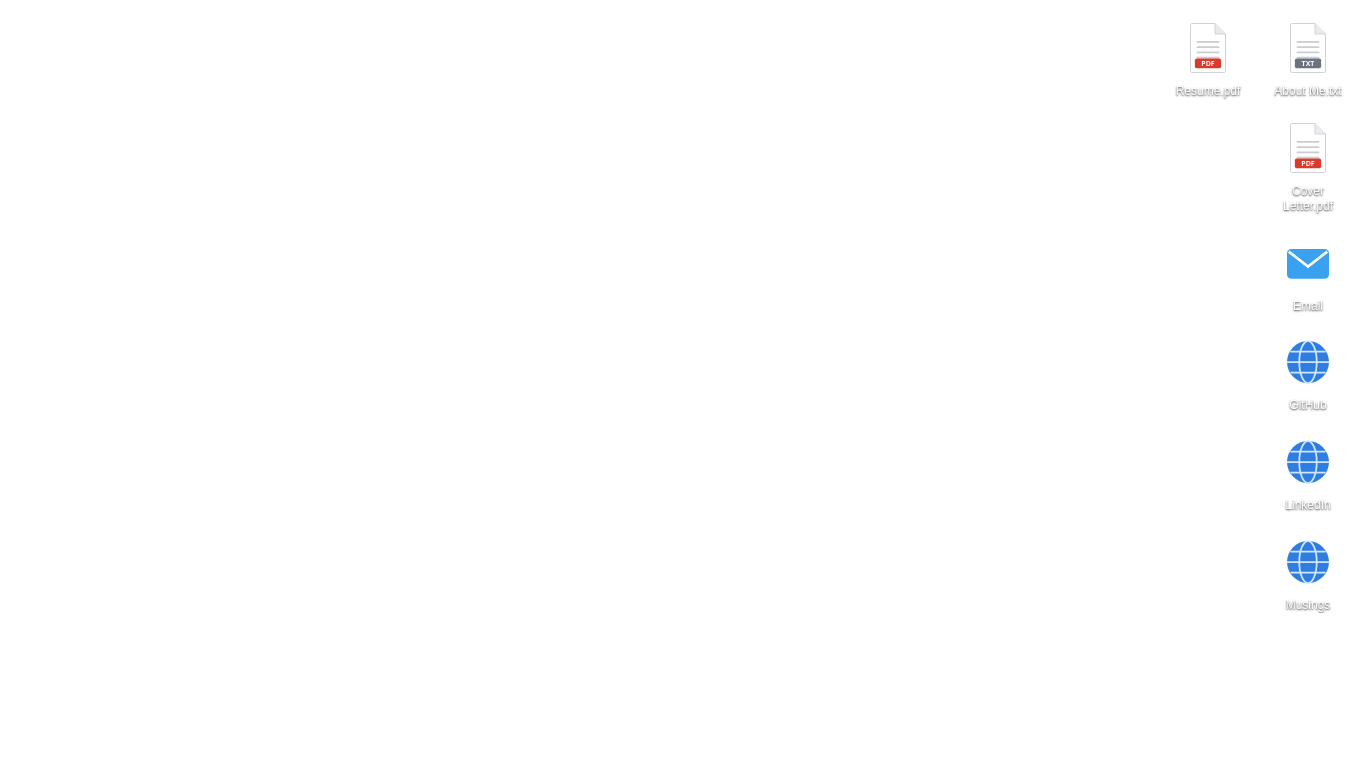
DesktopSurface › renames an icon in place, keeping the old name on Escape or when left empty
Step 1. Right-click the button "TXT About Me.txt" → (1308, 58), box [1262,12,1354,104]
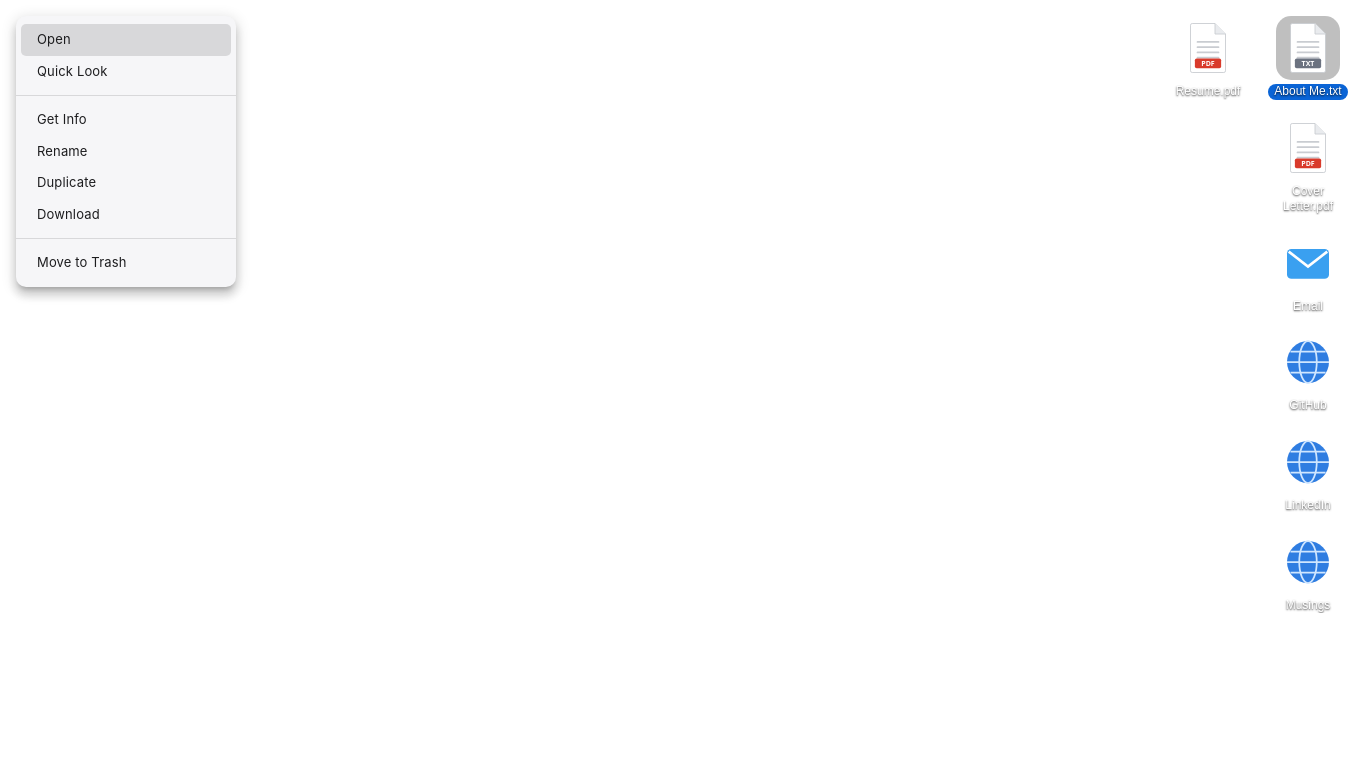
Step 2. Click the menu item "Rename" → (62, 150), box [37,142,88,158]
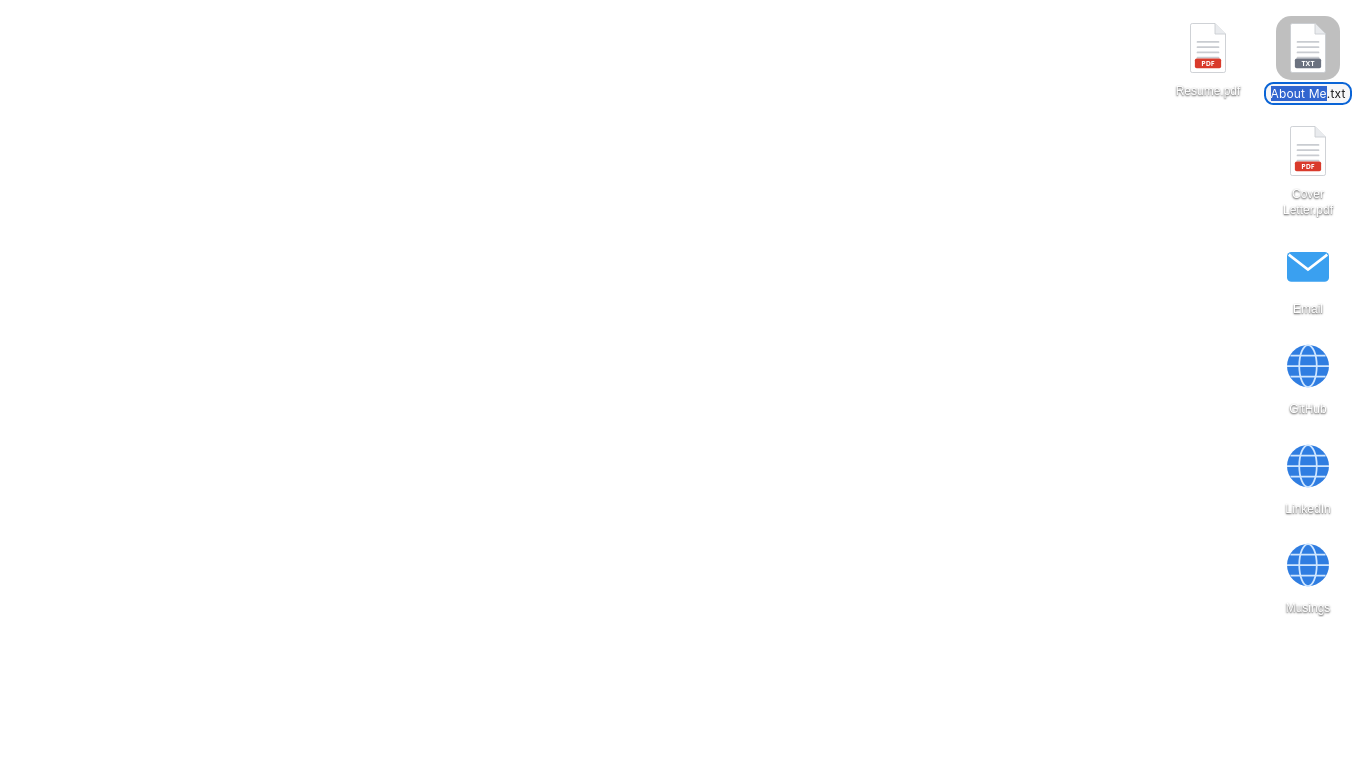
Now the field named "Name" holds "About Me.txt", box [1270,84,1346,103]
Step 3. Press Escape
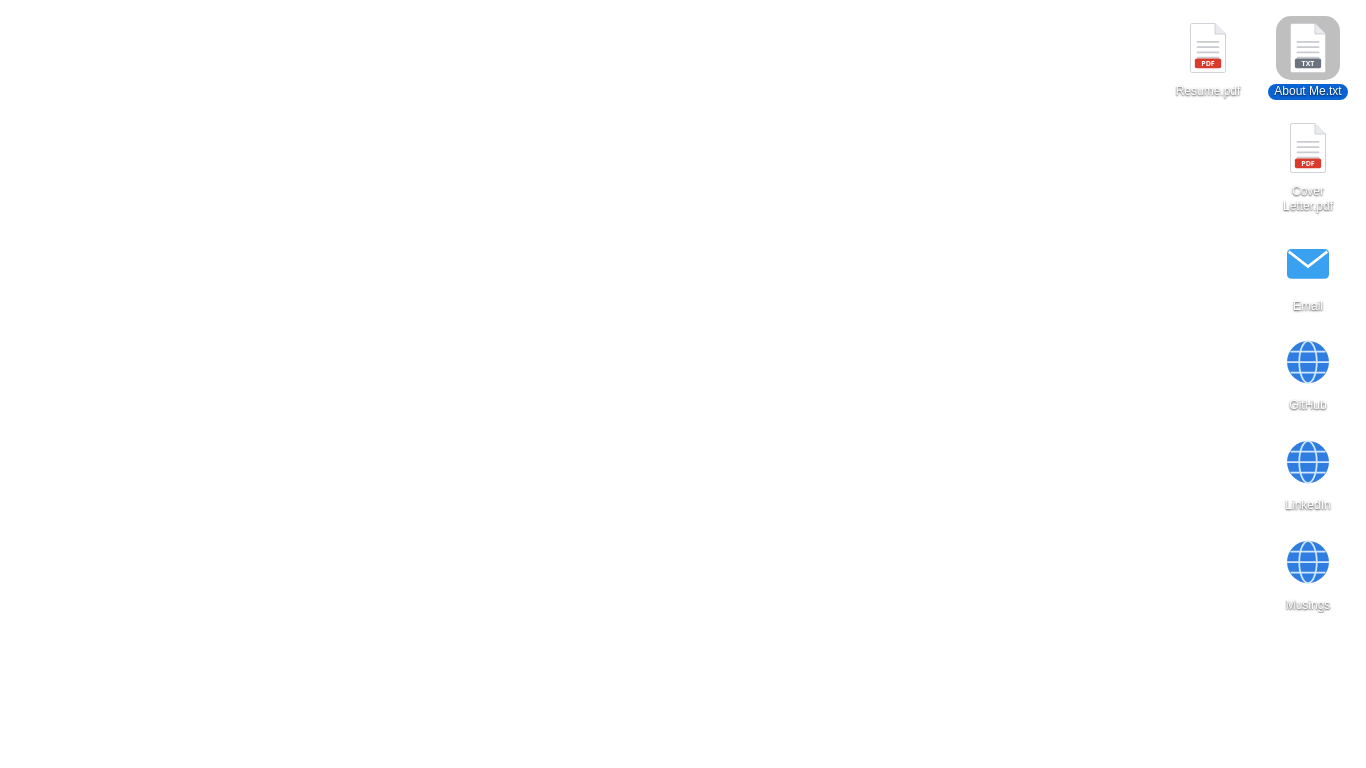
Now the button "TXT About Me.txt" is shown
Step 4. Right-click the button "TXT About Me.txt" → (1308, 58), box [1262,12,1354,104]
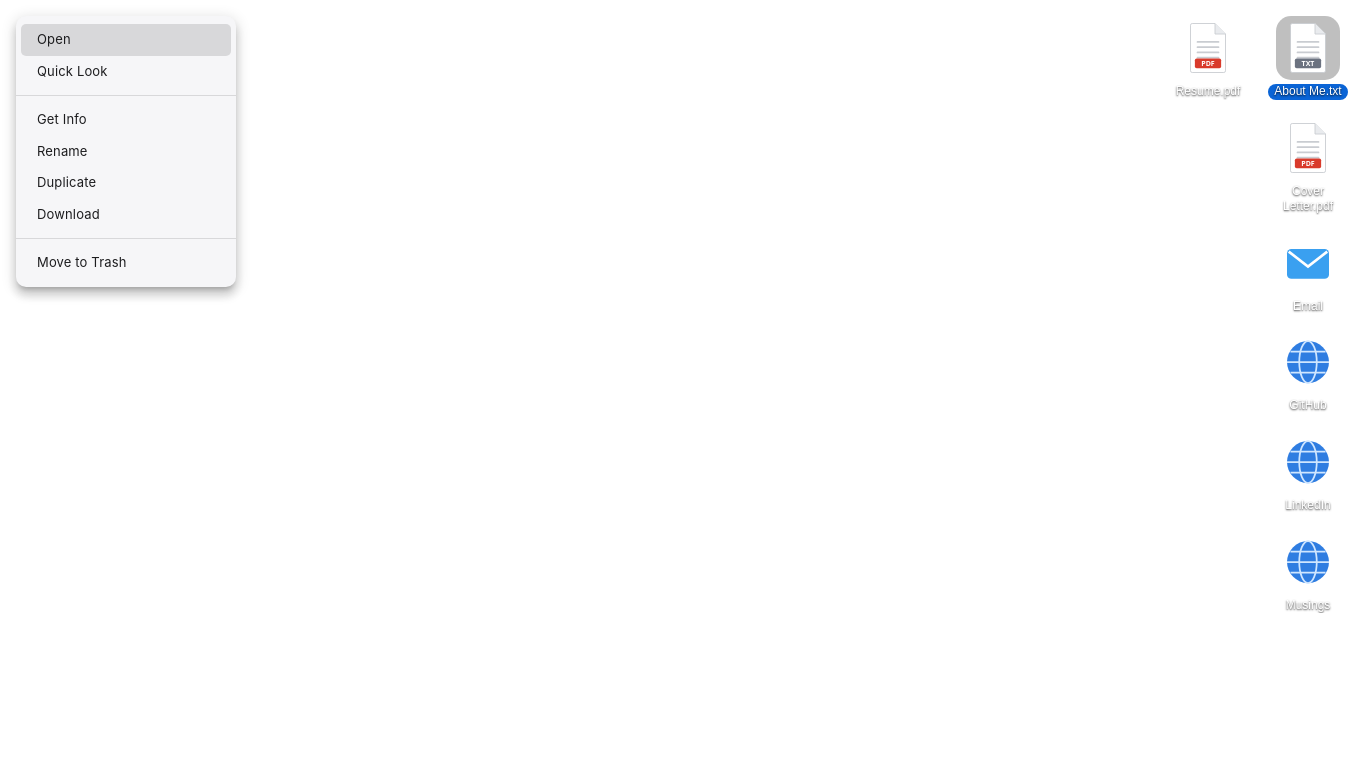
Step 5. Click the menu item "Rename" → (62, 150), box [37,142,88,158]
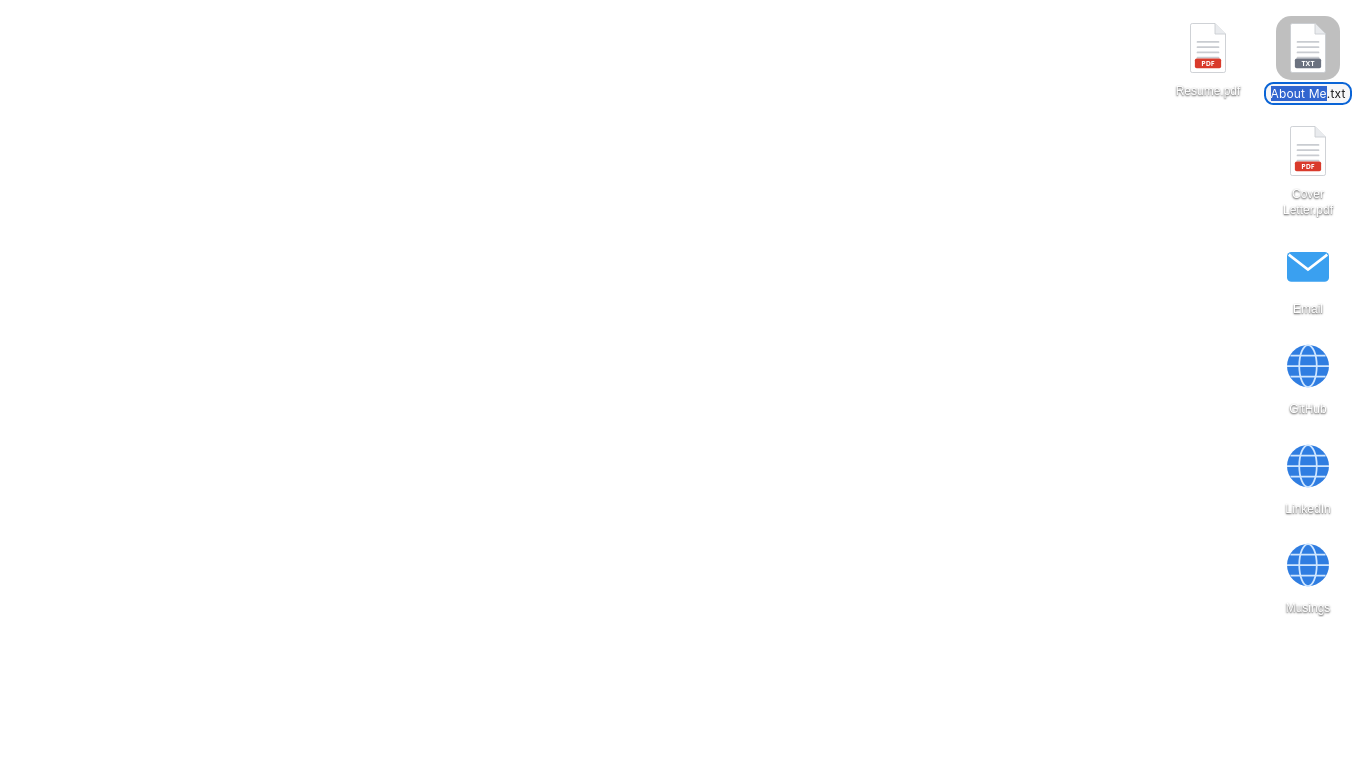
Step 6. Replace the text in the field named "Name" with "Hello.txt" → (1308, 94), box [1270,84,1346,103]
Then press Enter
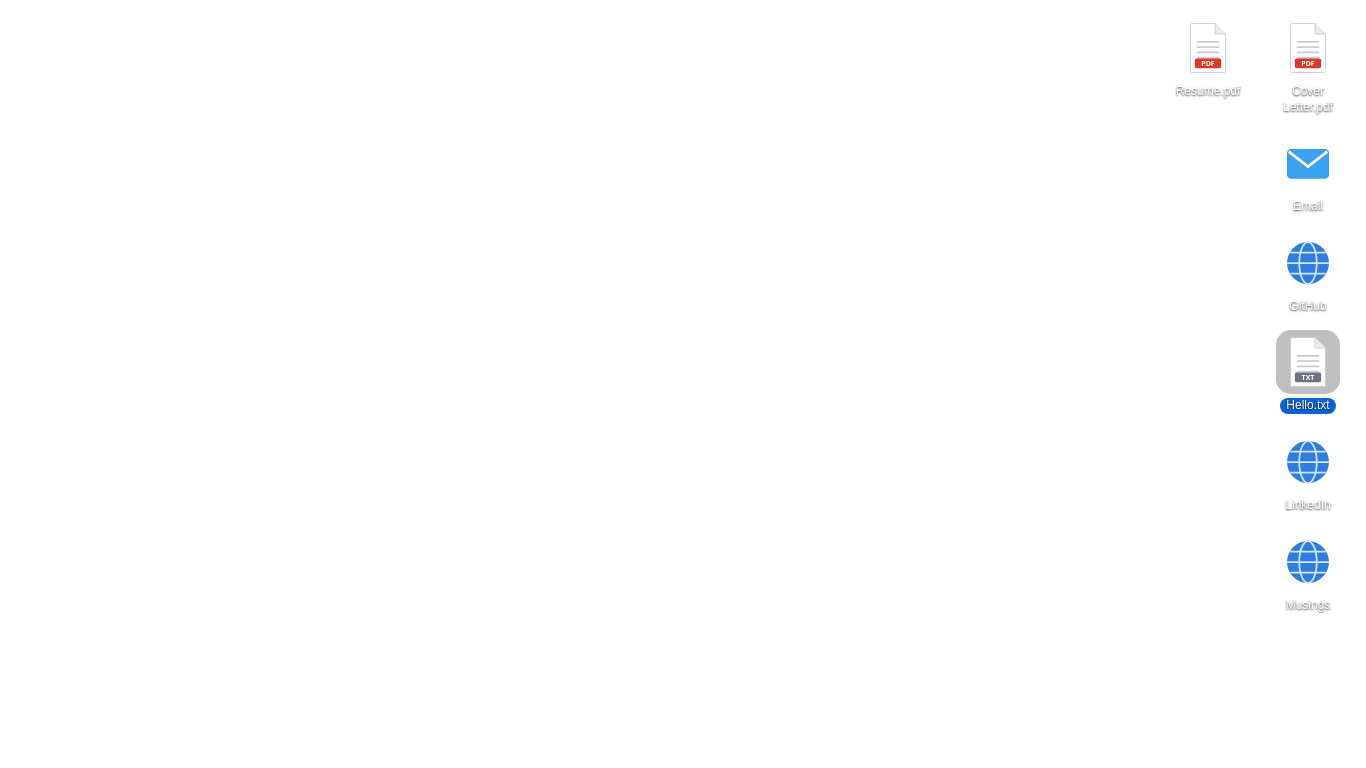
Now the button "TXT Hello.txt" is shown, box [1262,326,1354,418]
